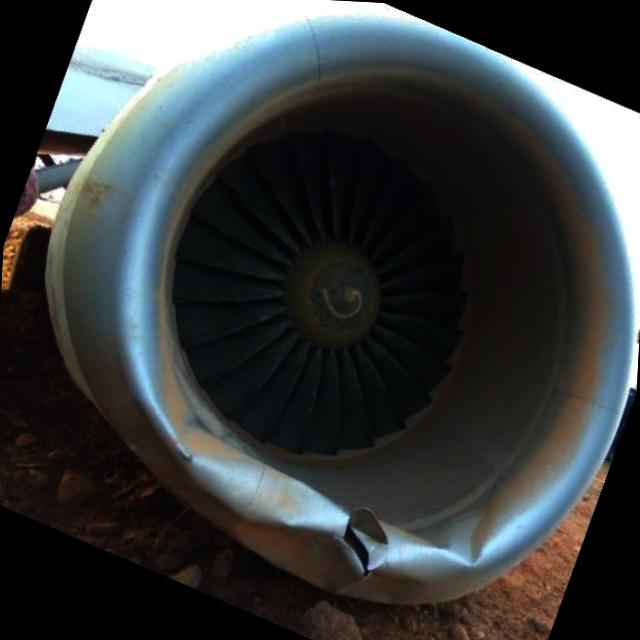crack: (334, 513, 376, 580)
dent: (186, 446, 348, 538), (445, 510, 495, 568)
